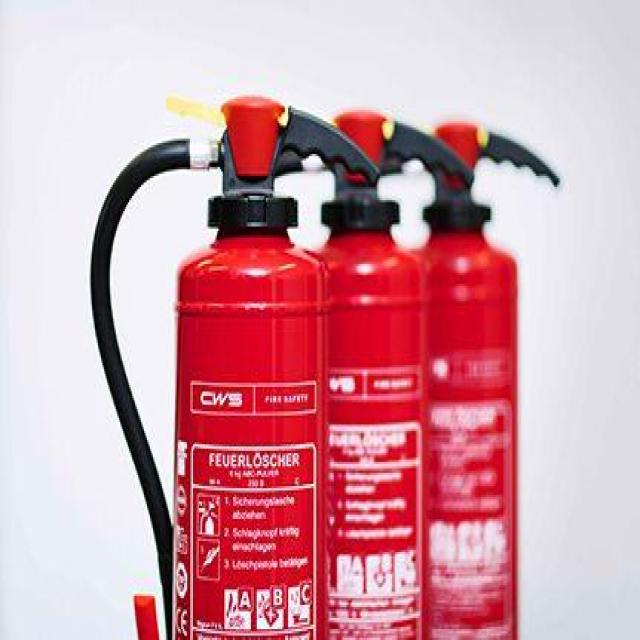fire_extinguisher: (85, 92, 383, 638), (223, 105, 485, 638), (346, 108, 564, 638)
